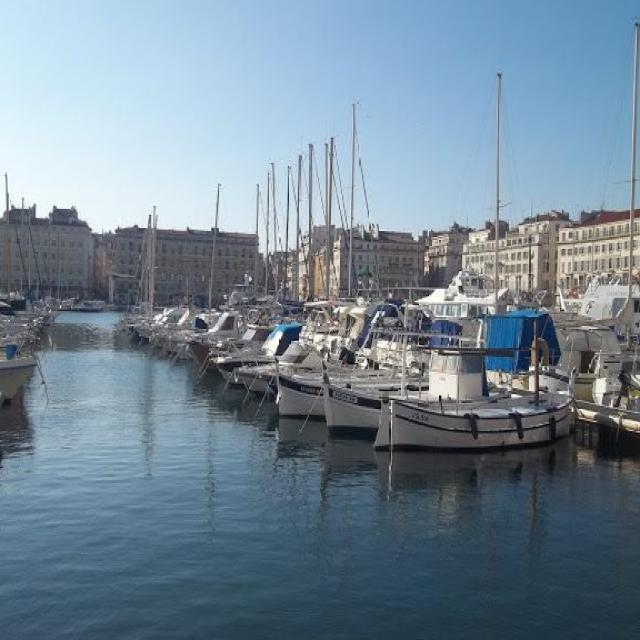houseboat: (379, 350, 586, 462)
